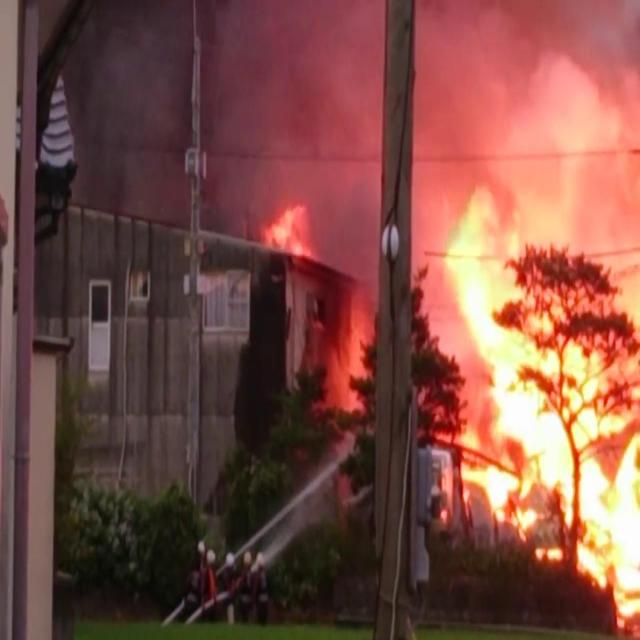Fire: (452, 195, 640, 625), (264, 204, 316, 258)
